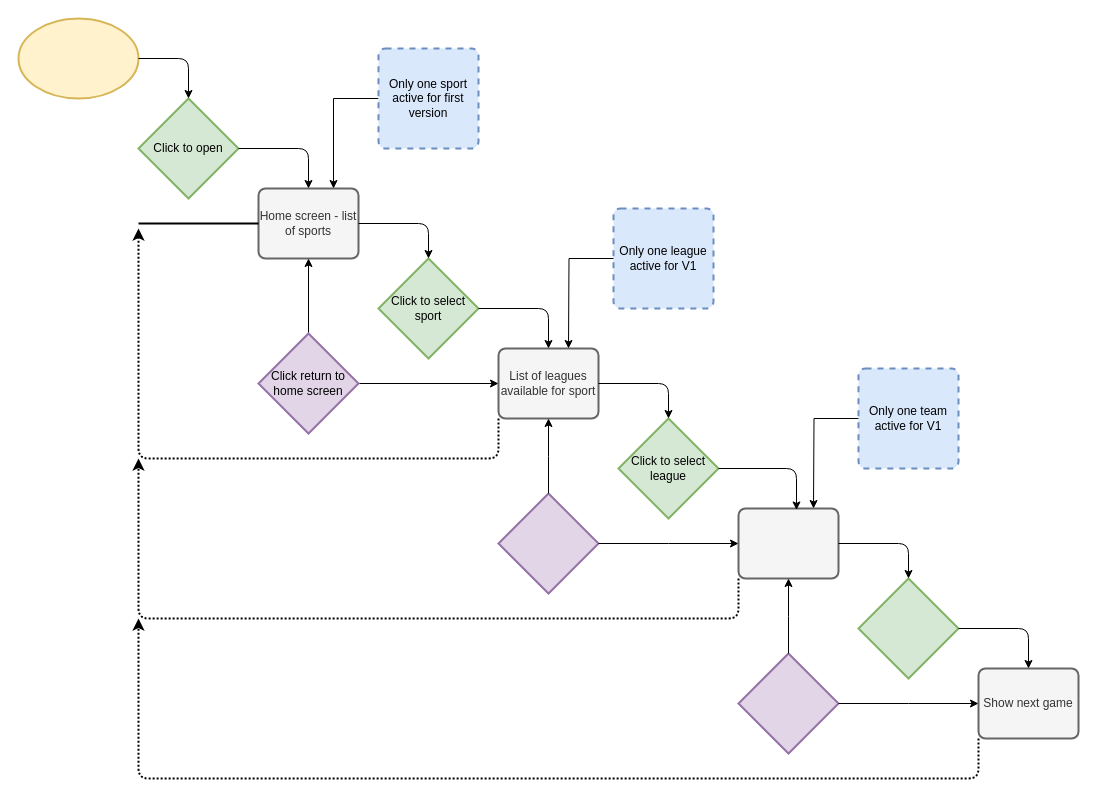
Some shapes in this 1096 by 804 pixel diagram are drawn without their labels. Each missing label, with the centre of its shape:
App Icon: the point at 78,58
Click return to leagues available: the point at 548,543
Click return to teams available: the point at 788,703
Click to select team: the point at 908,628
List of teams available in league: the point at 788,543
